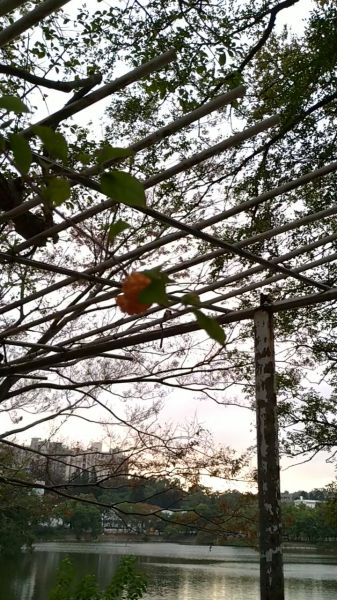eggs: (113, 267, 161, 319)
